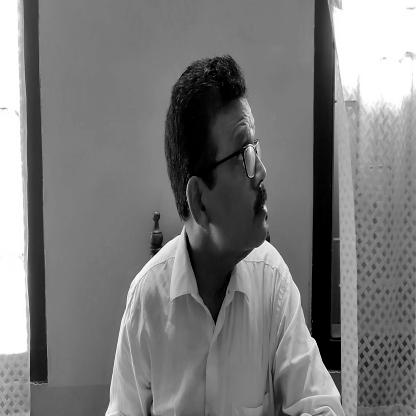Distracted: (164, 64, 270, 284)
